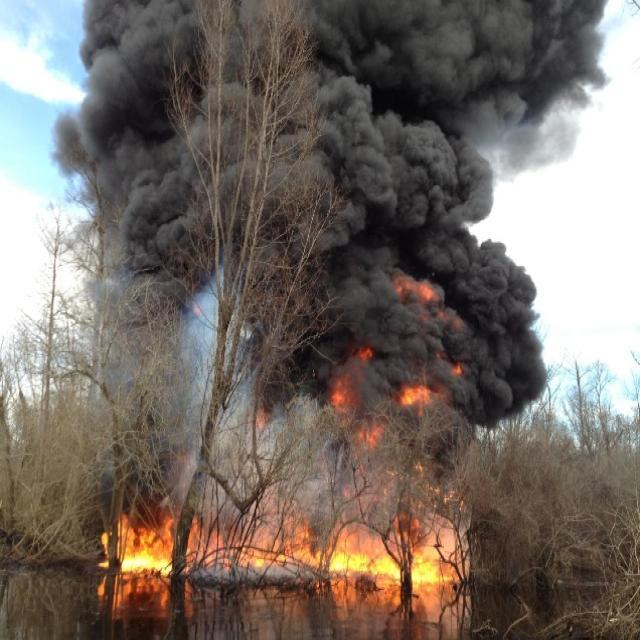Fire: (89, 497, 476, 589)
Smoke: (78, 0, 565, 421)
